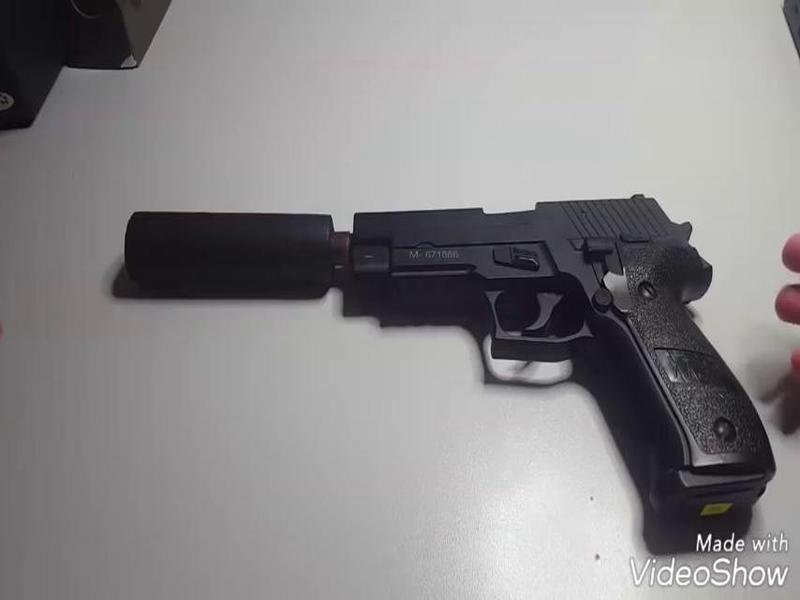Pistola: (103, 177, 800, 492)
